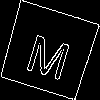M: (23, 25, 76, 81)
